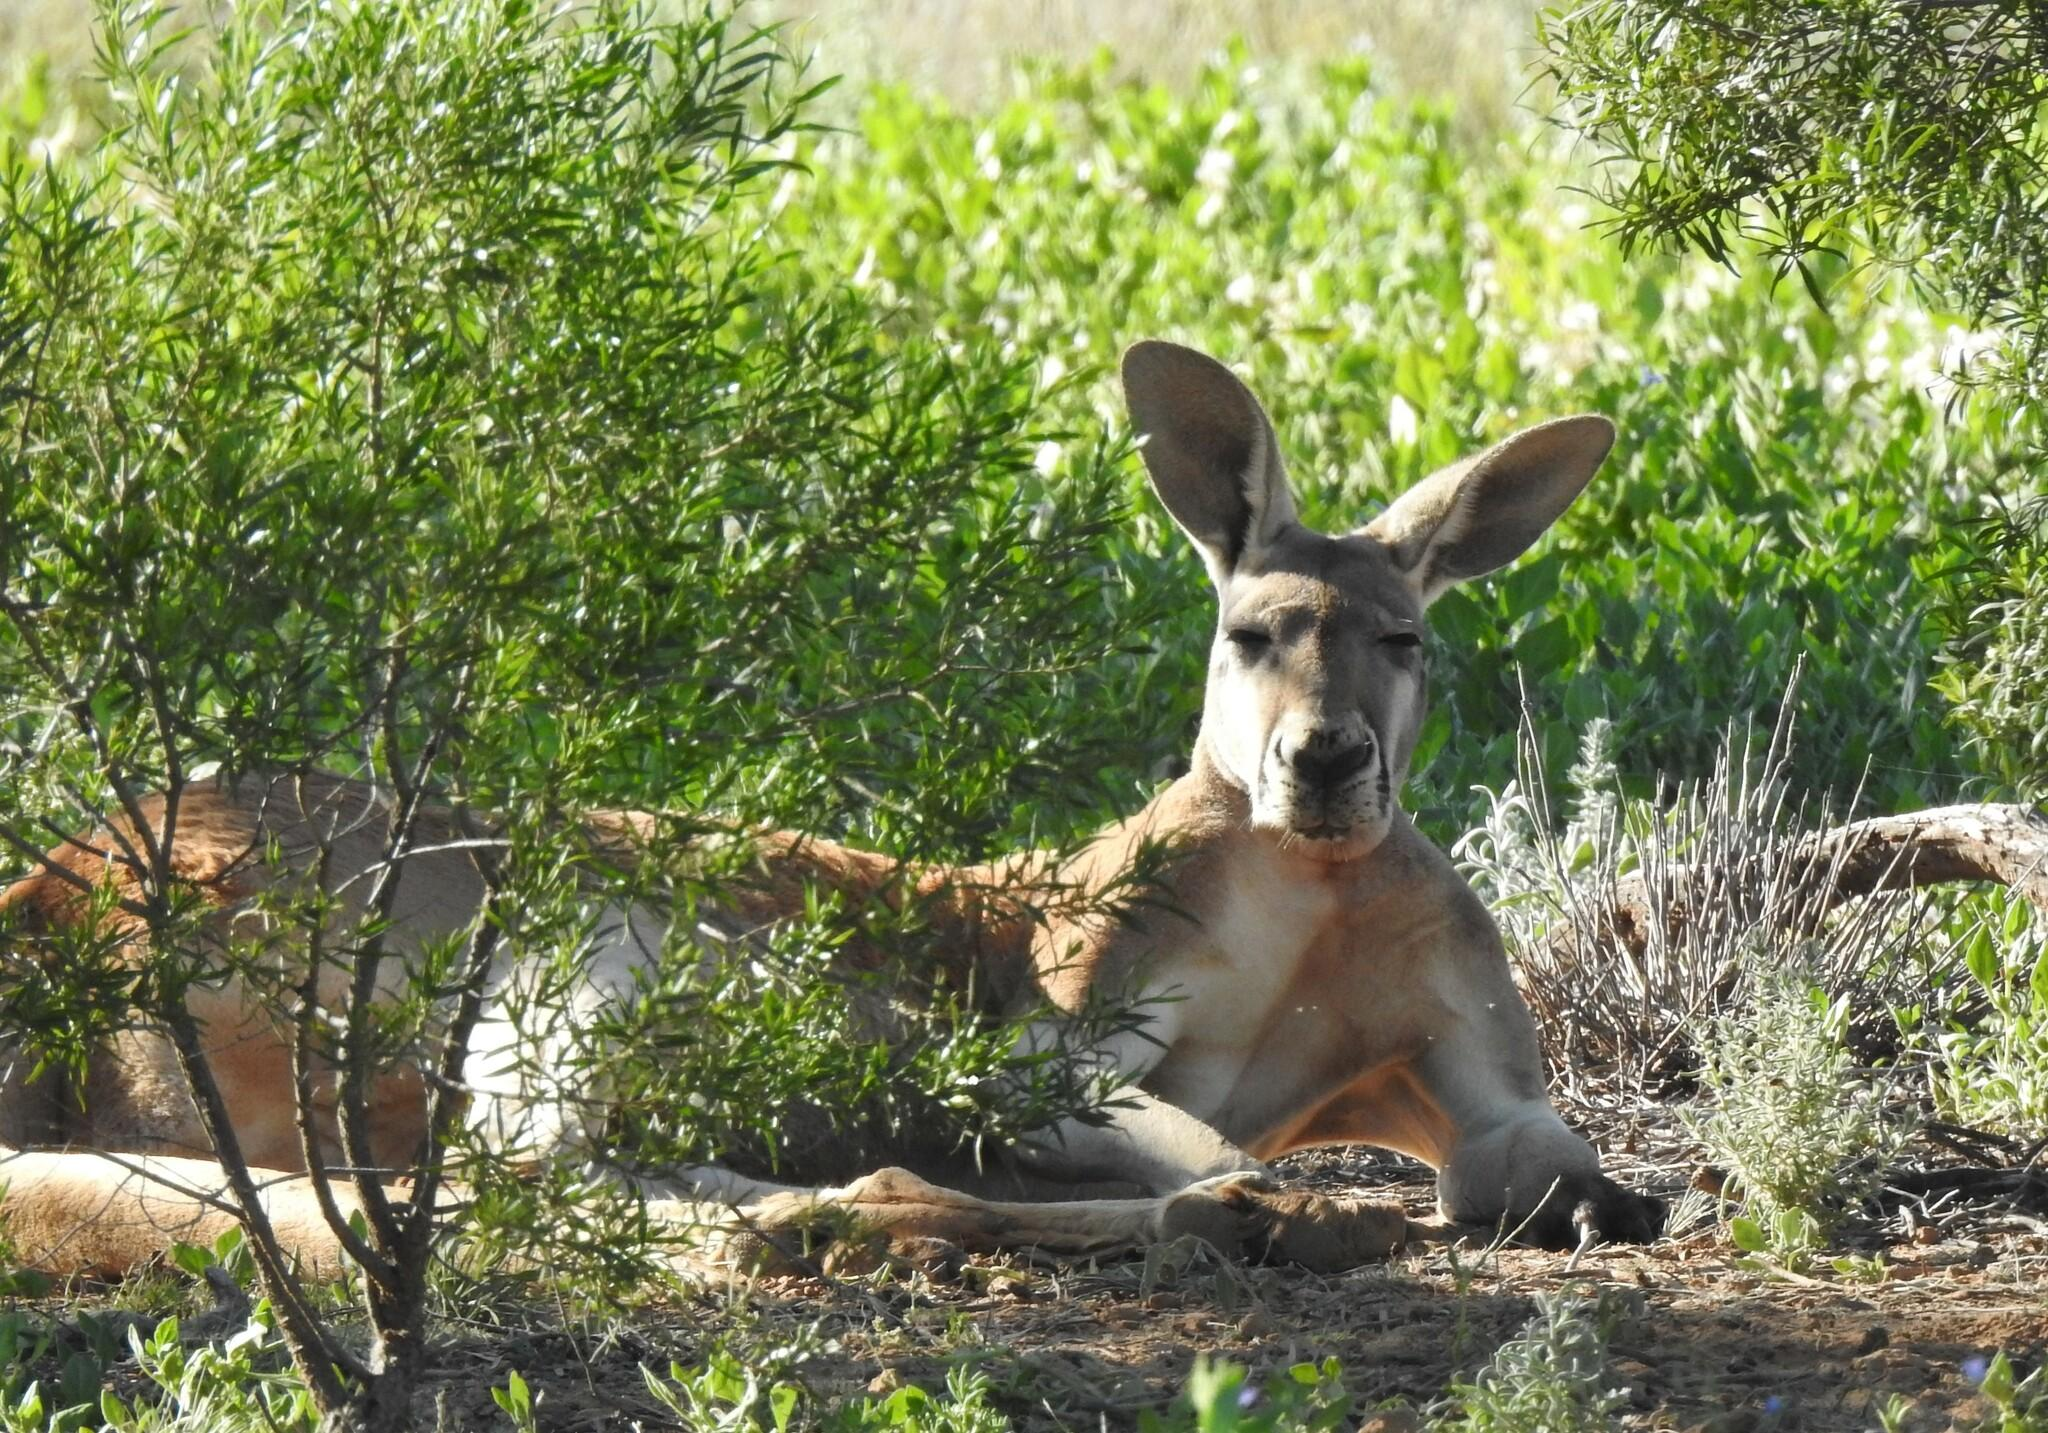Red kangaroo: (0, 335, 1664, 1284)
